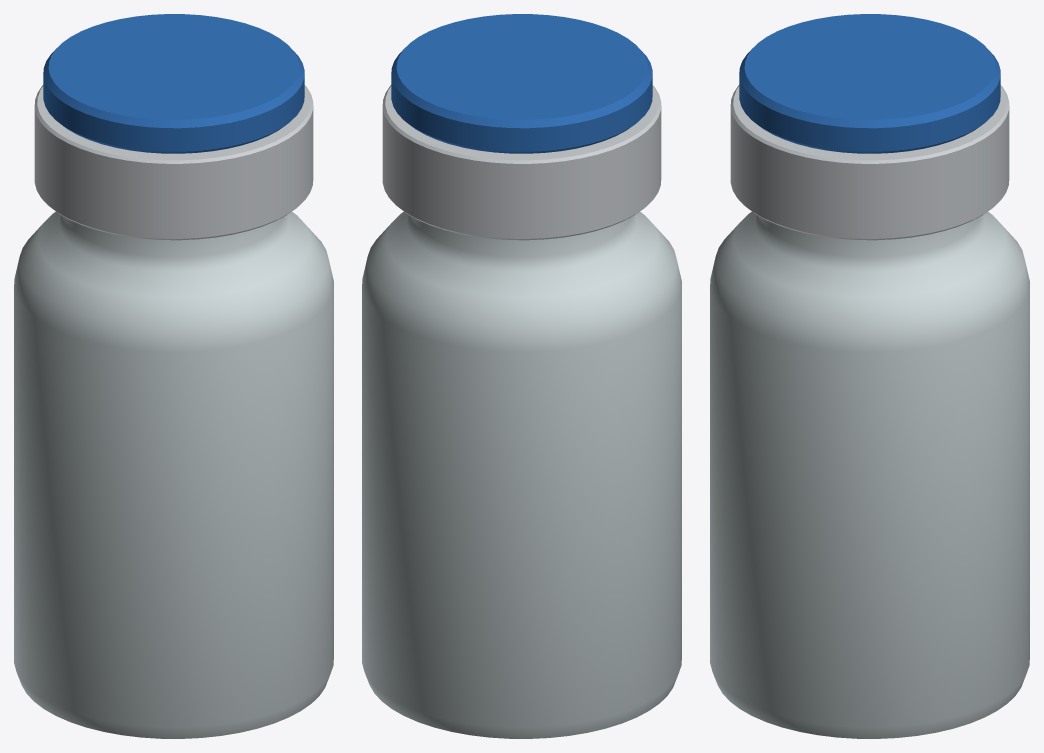
The model's file is flacon.glb.
3 renders of one model, left to right at view 1: azimuth 30°, elevation 25°; view 2: azimuth 150°, elevation 25°; view 3: azimuth 270°, elevation 25°, orthographic.
Parts seen in each view (by area): view 1: VialGlass, CrimpCap; view 2: VialGlass, CrimpCap; view 3: VialGlass, CrimpCap.
Boxes of the visible parts, x1,y1,x2,y2 form: VialGlass: (14,211,333,738); CrimpCap: (34,14,313,240); VialGlass: (362,211,681,738); CrimpCap: (382,14,661,240); VialGlass: (710,211,1029,738); CrimpCap: (730,14,1009,240).
Size of what is drawn, in the model's own units: 0.024 by 0.0505 by 0.024.
